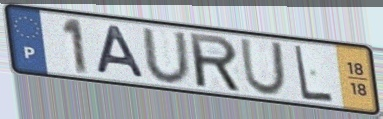1: (60, 16, 91, 77)
A: (94, 24, 148, 81)
L: (292, 43, 336, 104)
R: (186, 31, 244, 94)
U: (139, 27, 195, 87), (238, 37, 288, 98)
